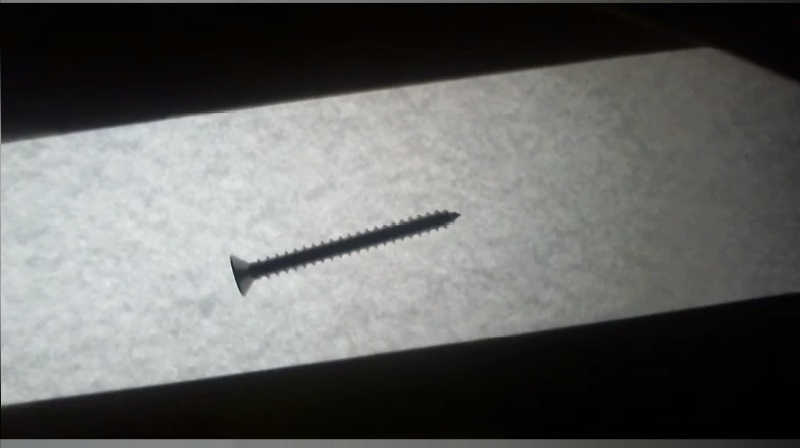S002: (225, 207, 466, 300)
